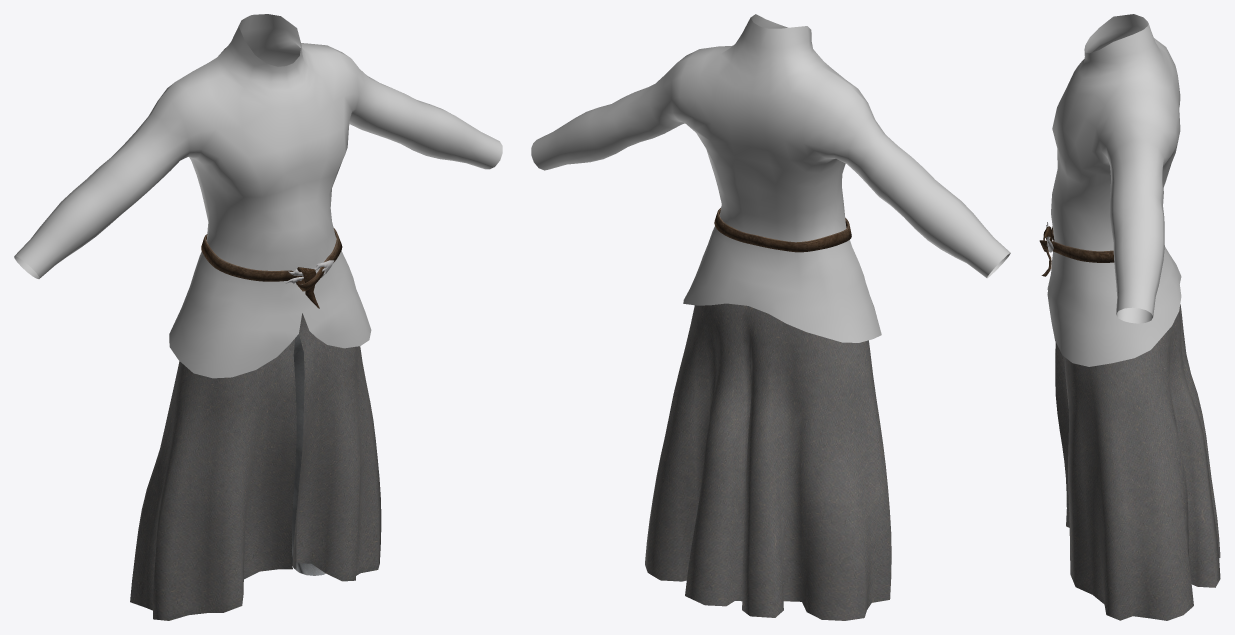
Rendered from rivendell_torso_scalemail_tier1.fbx.
3 views of the same model, side by side, from view 1: azimuth 30°, elevation 25°; view 2: azimuth 150°, elevation 25°; view 3: azimuth 270°, elevation 25° (orthographic). The views are drawn at different scales.
Visible parts, largest first — view 1: rivendell_torso_scalemail_tier1.1, rivendell_torso_scalemail_tier1.0, rivendell_torso_scalemail_tier1.2; view 2: rivendell_torso_scalemail_tier1.0, rivendell_torso_scalemail_tier1.1, rivendell_torso_scalemail_tier1.2; view 3: rivendell_torso_scalemail_tier1.1, rivendell_torso_scalemail_tier1.0, rivendell_torso_scalemail_tier1.2.
Part boxes in pixels (x1,y1,x2,y2): rivendell_torso_scalemail_tier1.1: [14, 14, 502, 378]; rivendell_torso_scalemail_tier1.0: [130, 313, 381, 620]; rivendell_torso_scalemail_tier1.2: [201, 228, 342, 308]; rivendell_torso_scalemail_tier1.0: [645, 303, 891, 620]; rivendell_torso_scalemail_tier1.1: [531, 14, 1010, 342]; rivendell_torso_scalemail_tier1.2: [714, 208, 851, 252]; rivendell_torso_scalemail_tier1.1: [1047, 14, 1181, 366]; rivendell_torso_scalemail_tier1.0: [1055, 304, 1220, 620]; rivendell_torso_scalemail_tier1.2: [1039, 222, 1114, 276].
Size of the model in its own units: 1.27 by 0.4304 by 1.45.
